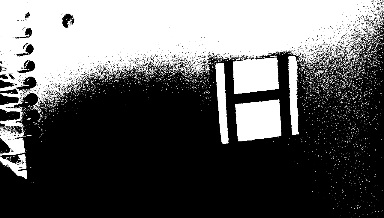H: (212, 56, 297, 143)
